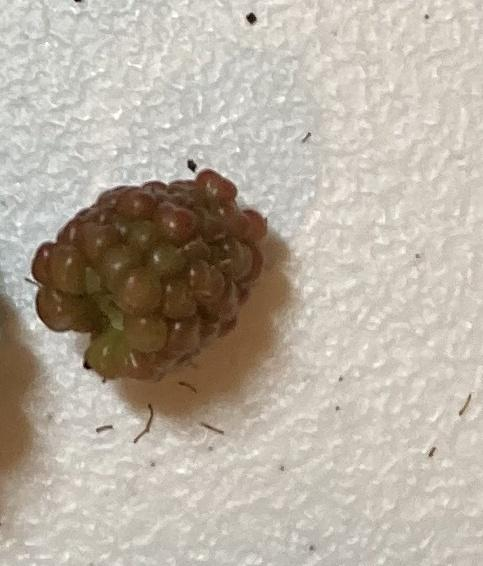berry: (32, 169, 266, 379)
